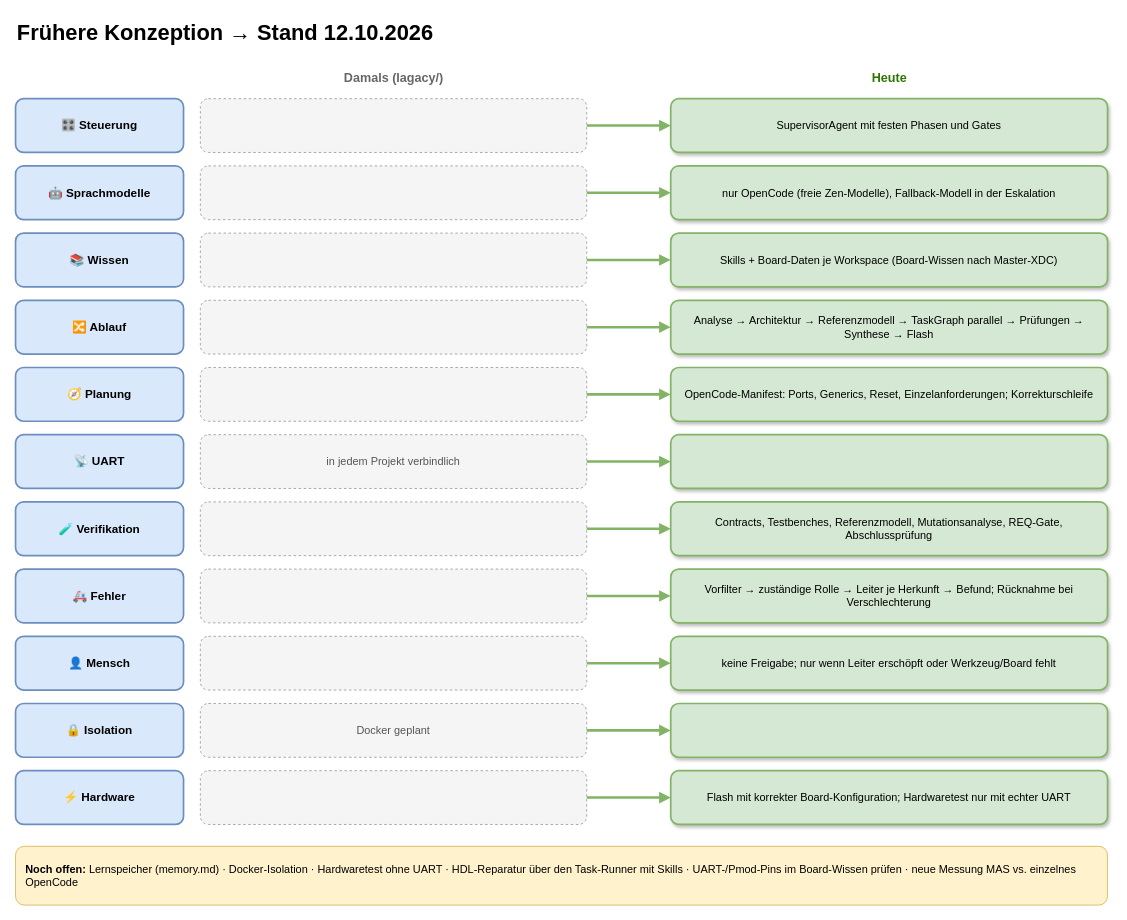
The diagram is 1127 pixels wide and 920 high, and some of its shapes have lost their labels. Here are the shapes that lost their labels. From the top down, the centre of each, then its label:
At (x=393, y=125): "Orchestrator / Blackboard bzw. lokales Modell (1–7 B)".
At (x=393, y=192): "Ollama lokal + OpenCode; LangChain, CrewAI, Hermes geplant".
At (x=393, y=259): "RAG-Pipeline, Lernspeicher memory.md".
At (x=393, y=326): "linearer Automat mit RAG_SEARCH, ein Agentenlauf".
At (x=393, y=394): "Architektur als YAML/Text vom LLM, deterministischer Fallback".
At (x=889, y=462): "nur bei Bedarf".
At (x=393, y=528): "GHDL-Simulation".
At (x=393, y=595): "gleicher Fehler → Abbruch; LLM-Diagnose; HDL-Patch".
At (x=393, y=662): "Freigabe vor dem Flashen".
At (x=889, y=731): "native Sperre + eigenes Git-Repo je Workspace (Docker zurückgestellt)".
At (x=393, y=797): "Flash; Hardwaretest nicht angebunden".
